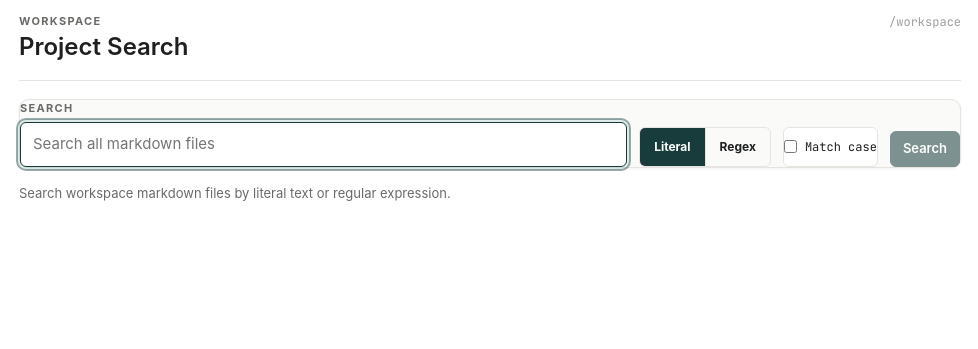
ProjectSearchView › runs a literal workspace search and renders line context
Type "AI era" into the search field named "Search workspace". click: (324, 144)
box: [20, 122, 627, 166]
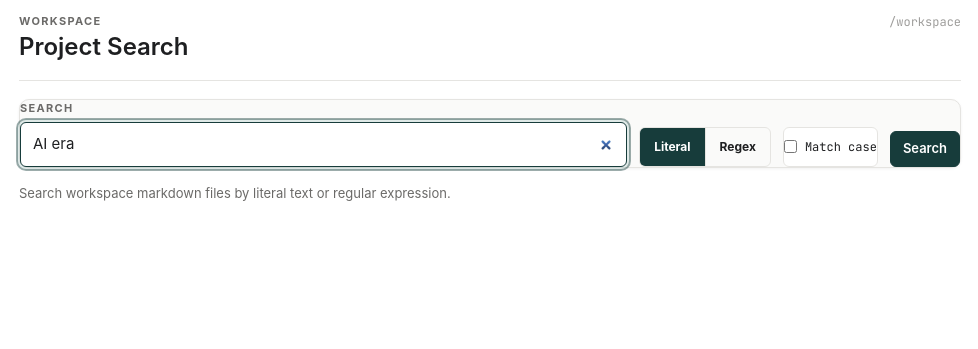
Click the button "Search". click: click(925, 149)
box: [890, 131, 960, 166]
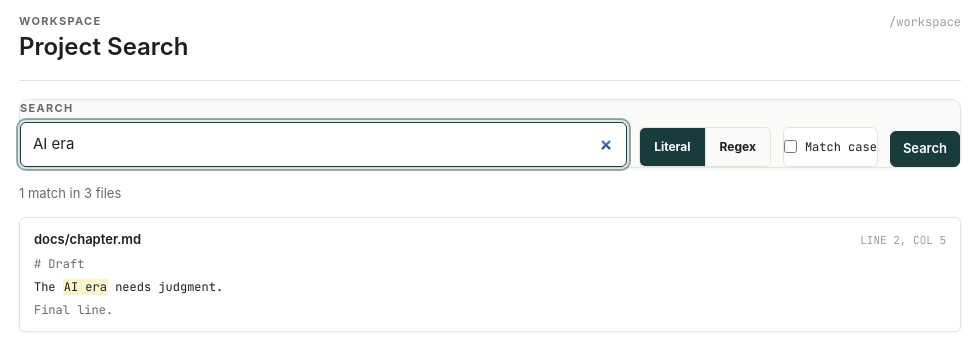
Now the text "docs/chapter.md" is shown, box [34, 230, 141, 250]
Now the text "Line 2, Col 5" is shown, box [860, 232, 946, 248]
Now the text "# Draft" is shown, box [34, 256, 84, 272]
